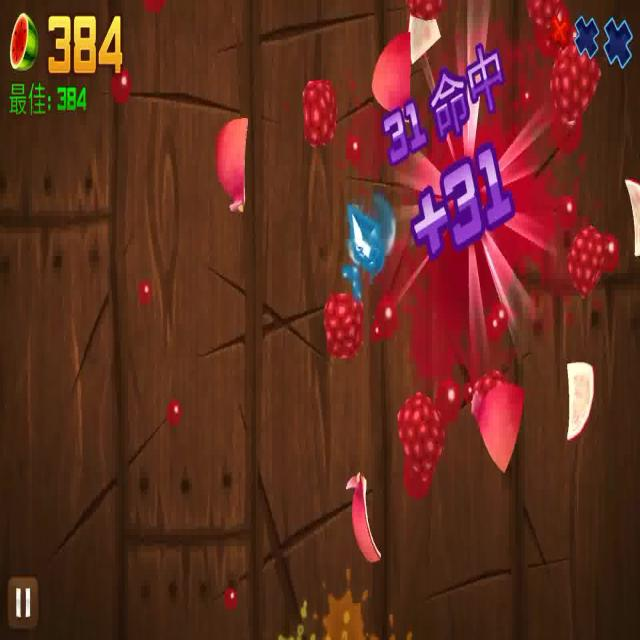fruit: (393, 392, 449, 493)
